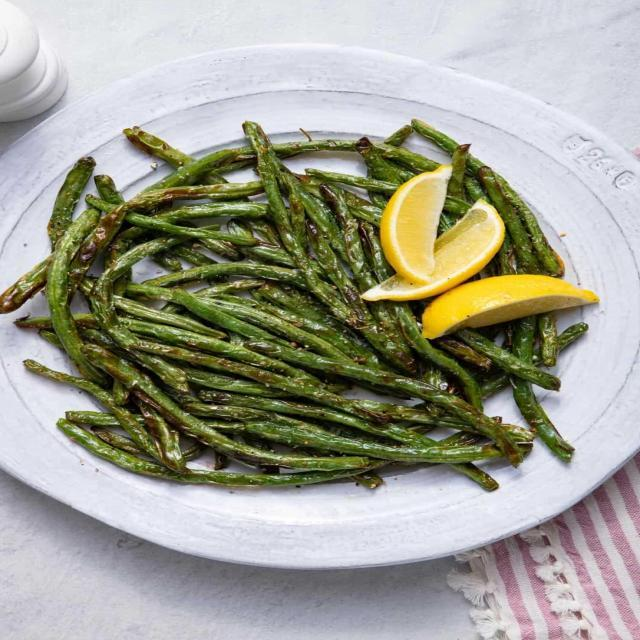Beans: (0, 101, 601, 505)
